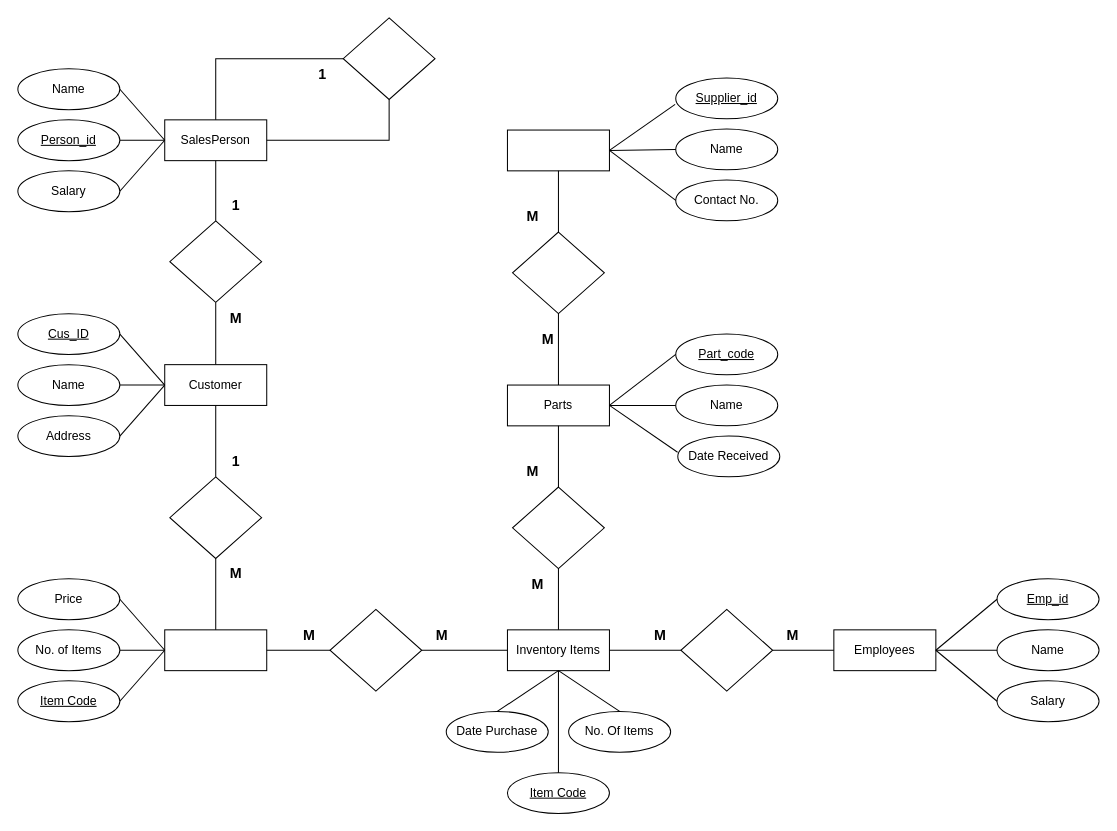
This 1117x831 diagram has some shape labels left out. Each missing label, with the centre of its shape:
agent to: the point at 215,261
assembled by: the point at 726,649
assembled to: the point at 558,527
listed: the point at 375,649
manages: the point at 388,58
Orders: the point at 215,650
place: the point at 215,517
Supplier: the point at 557,150
Supplies: the point at 558,272
